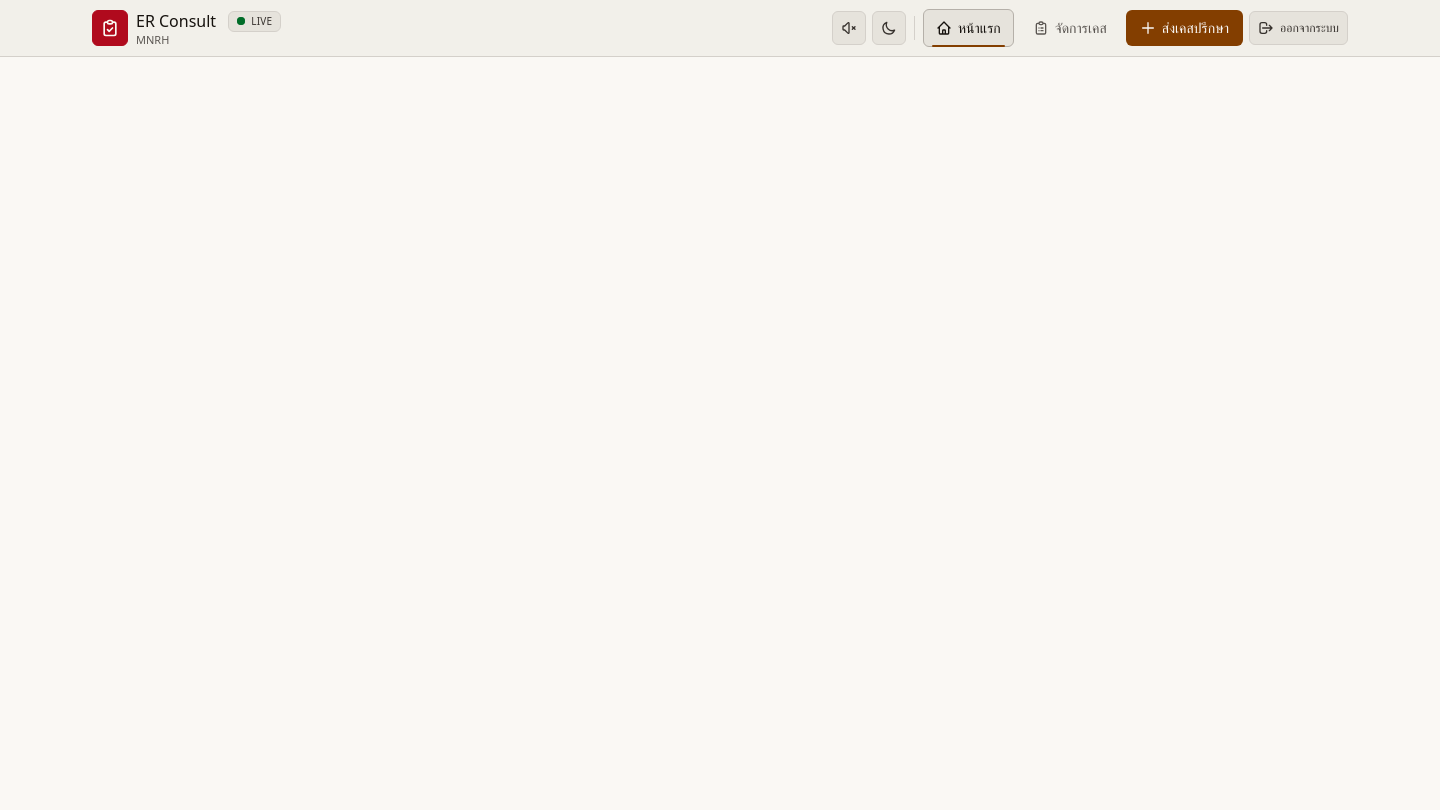
Test: Navbar logout confirmation › closes confirmation modal when logout resolves cleanly
The image size is (1440, 810).
Step 1. Click the button "ออกจากระบบ" → (1299, 28), box [1249, 11, 1348, 45]
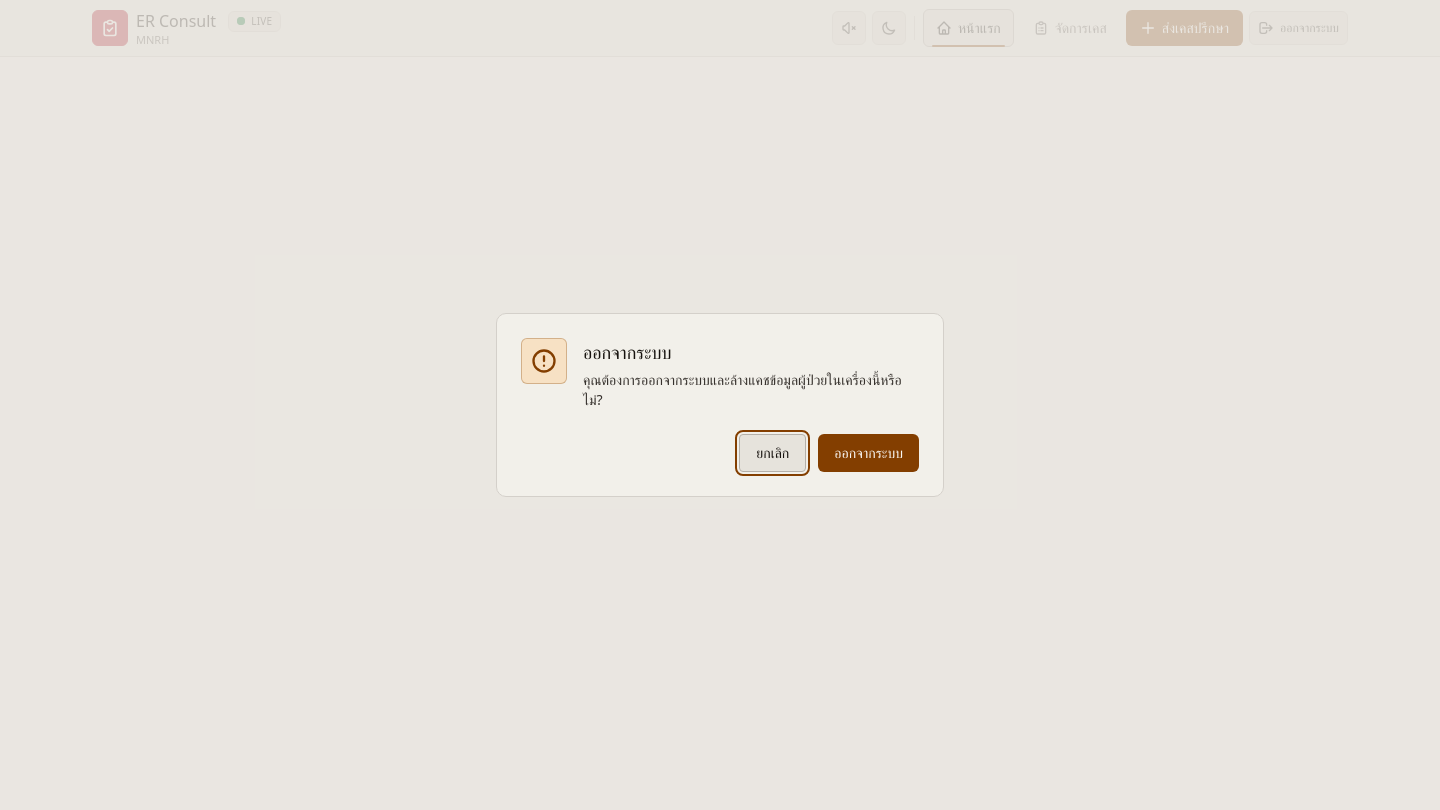
Check: the dialog is shown, box [496, 313, 944, 497]
Step 2. Click the button "ออกจากระบบ" → (869, 453), box [818, 434, 919, 472]
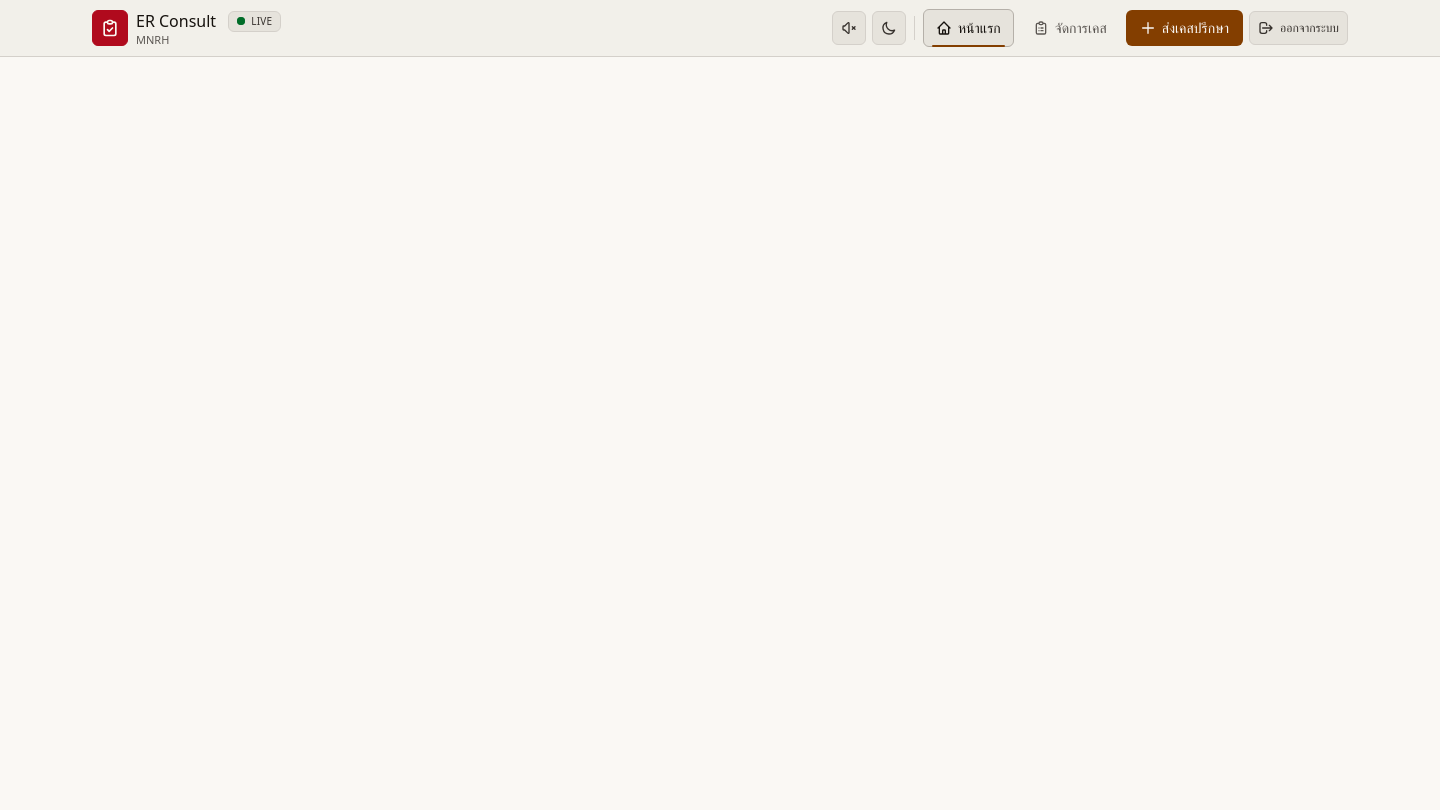
Check: the dialog is gone
